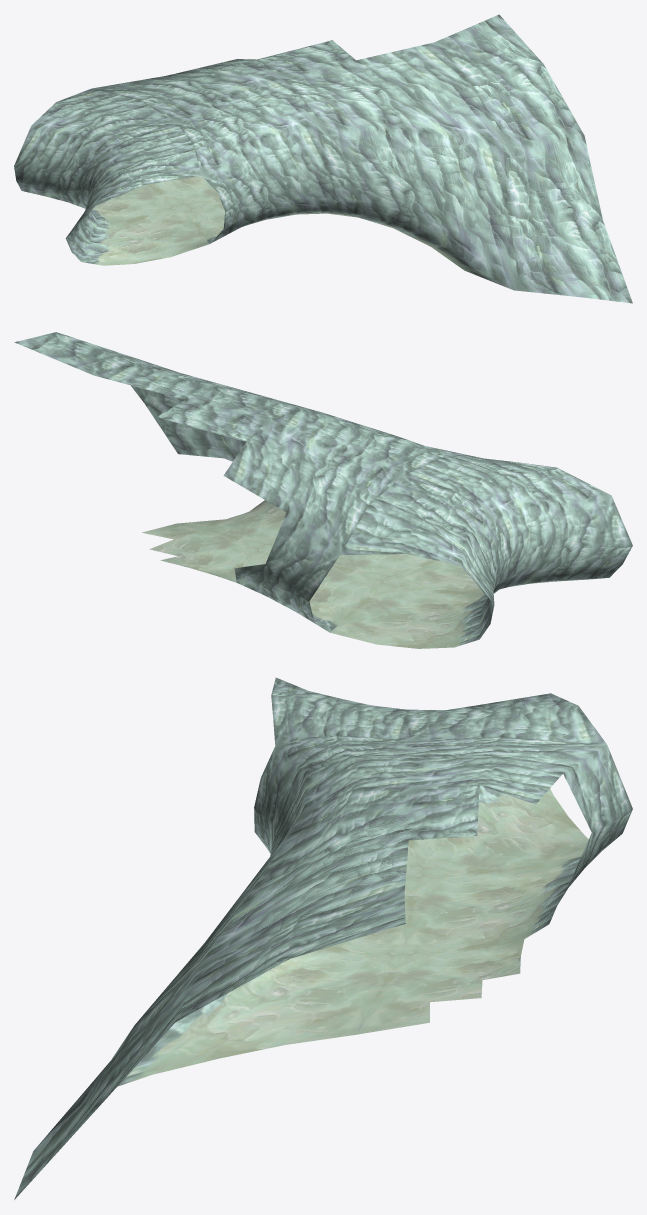
Rendered from TROLLHOLE02_PS-MAINCAVE02.fbx.
3 views of the same model, one above another, from view 1: azimuth 30°, elevation 25°; view 2: azimuth 150°, elevation 25°; view 3: azimuth 270°, elevation 25° (orthographic). The views are drawn at different scales.
Parts seen in each view (by area): view 1: TROLLHOLE02_PS-MAINCAVE02; view 2: TROLLHOLE02_PS-MAINCAVE02; view 3: TROLLHOLE02_PS-MAINCAVE02.
Boxes of the visible parts, x1=… form: TROLLHOLE02_PS-MAINCAVE02: x1=14, y1=14, x2=632, y2=303; TROLLHOLE02_PS-MAINCAVE02: x1=14, y1=332, x2=632, y2=648; TROLLHOLE02_PS-MAINCAVE02: x1=14, y1=677, x2=632, y2=1199.
Bounding box in the file's own units: 285949 × 108823 × 220157.
Materials: 3 (3 with a texture image).
